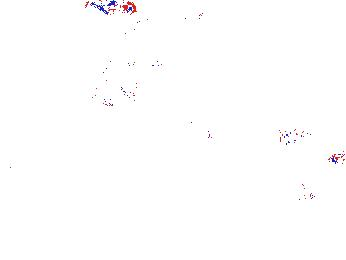X-ray fish: (51, 63, 101, 96), (83, 149, 129, 181)
glassfish: (159, 103, 239, 169), (221, 124, 311, 170)
red belly glassfish: (84, 1, 138, 16), (327, 152, 346, 167)
redtail glassfish: (110, 53, 169, 91), (122, 7, 207, 33), (79, 83, 142, 108)
